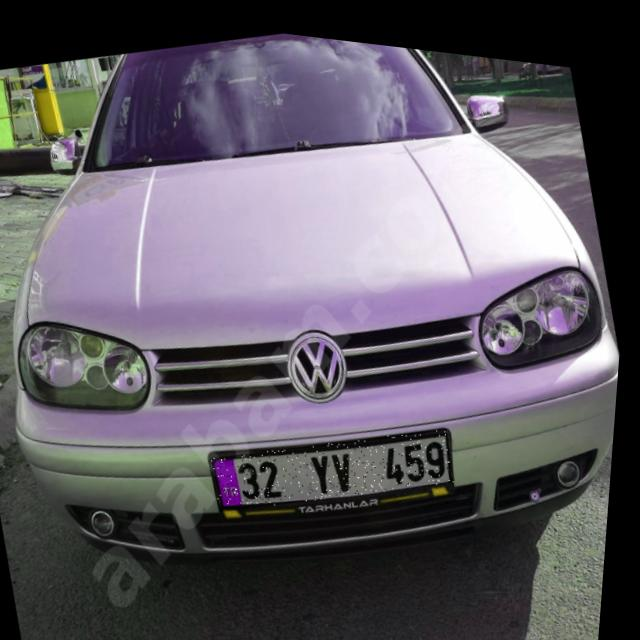license_plate: (214, 394, 465, 527)
